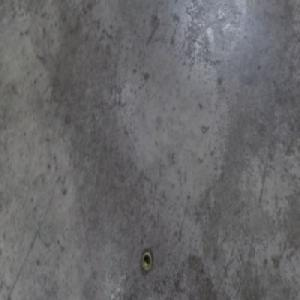Nut: (140, 248, 153, 273)
